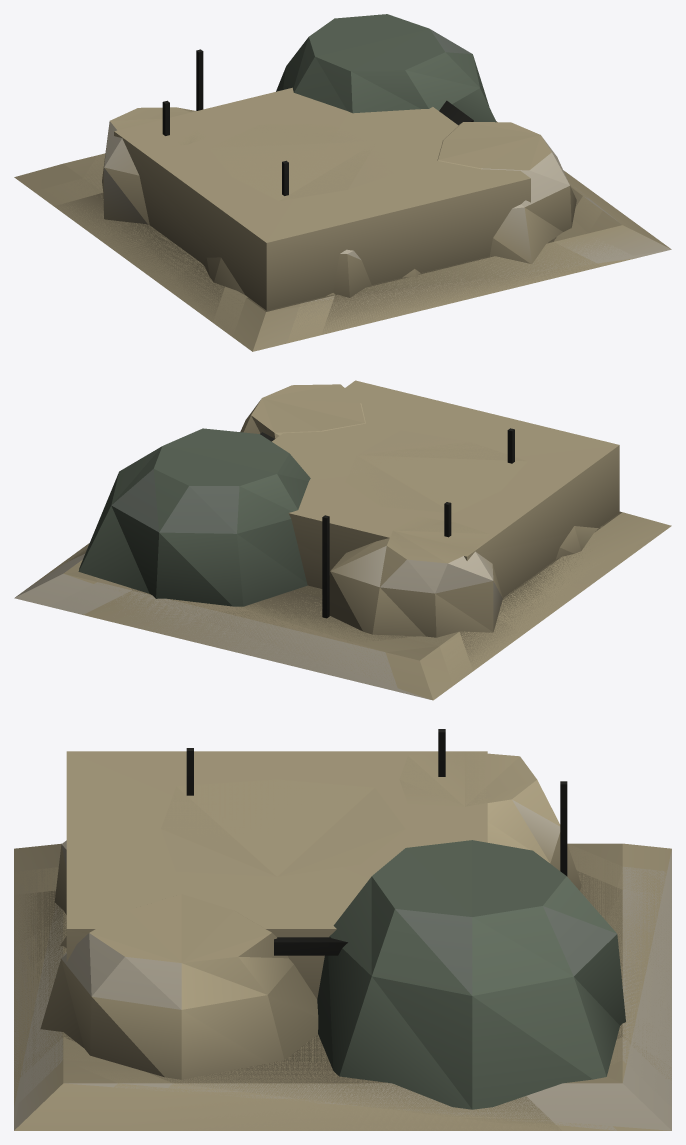
Rendered from neutral_rubble_1x1.glb.
3 renders of one model, top to bottom at view 1: azimuth 30°, elevation 25°; view 2: azimuth 150°, elevation 25°; view 3: azimuth 270°, elevation 25°, orthographic. The views are drawn at different scales.
Parts seen in each view (by area): view 1: body (×3); view 2: body (×3); view 3: body (×3).
Part boxes in pixels (left/top/right/bottom): body (×3): left=14, top=14, right=671, bottom=351; body (×3): left=14, top=380, right=671, bottom=700; body (×3): left=14, top=729, right=671, bottom=1130.
Bounding box in the file's own units: 2.76 × 0.75 × 2.72.
